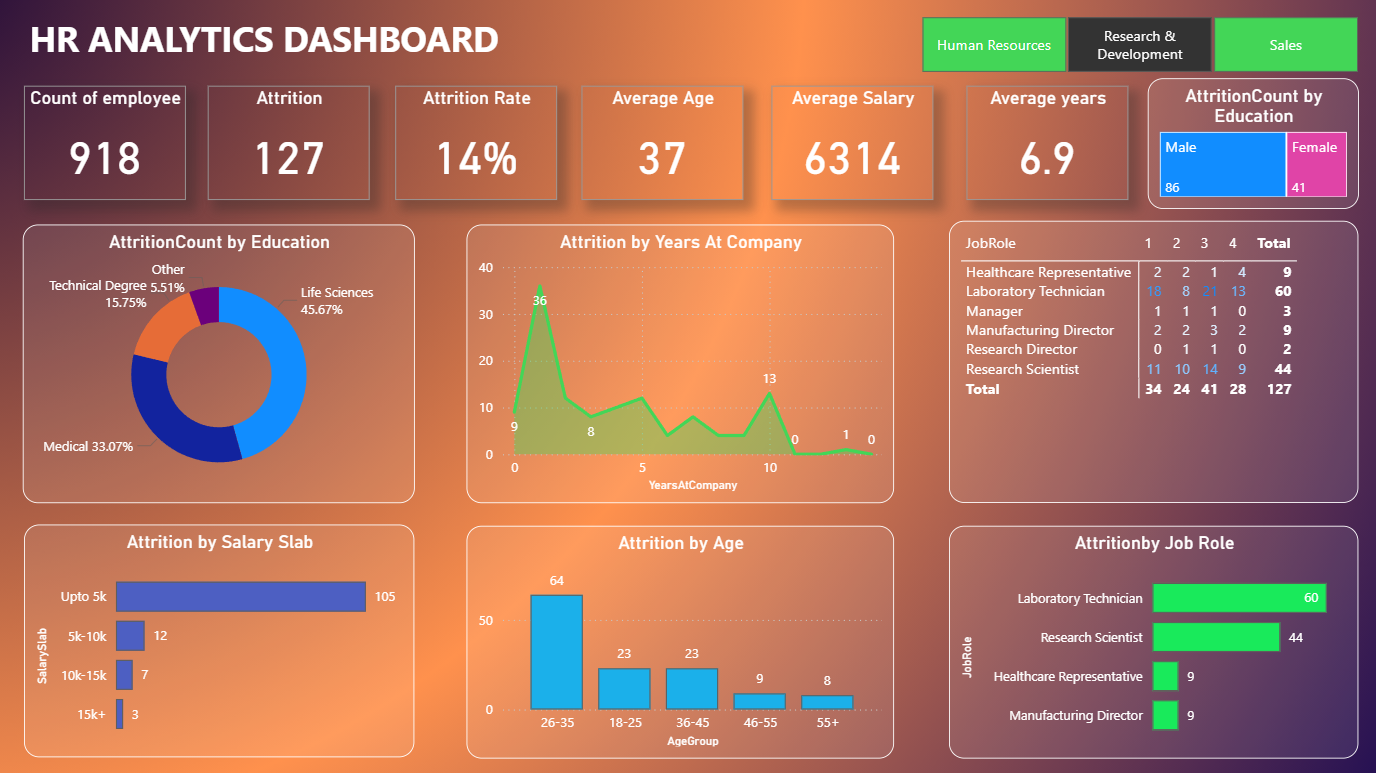

What the dashboard file says about the page in this screenshot:
{"tool":"powerbi","page":{"name":"Page 1","canvas":[1280,720],"ordinal":0},"visuals":[{"type":"card","title":"Count of employee","fields":{"Values":["CountNonNull(HR_Analytics.EmpID)"]},"box":[23.3,82.3,149.6,105.7],"z":0},{"type":"card","title":"Attrition","fields":{"Values":["Sum(HR_Analytics.AttritionCount)"]},"box":[193.5,82.3,149.6,105.7],"z":1000},{"type":"card","title":"Average Salary","fields":{"Values":["Avg(HR_Analytics.MonthlyIncome)"]},"box":[713.6,82.3,149.6,105.7],"z":2000},{"type":"card","title":"Attrition Rate","fields":{"Values":["HR_Analytics.AttritionRate"]},"box":[366.4,82.3,149.6,105.7],"z":3000},{"type":"card","title":"Average Age","fields":{"Values":["Avg(HR_Analytics.Age)"]},"box":[537.9,82.3,149.6,105.7],"z":4000},{"type":"card","title":"Average years","fields":{"Values":["Avg(HR_Analytics.YearsAtCompany)"]},"box":[894.7,82.3,149.6,105.7],"z":5000},{"type":"donutChart","title":"AttritionCount by Education","fields":{"Category":["HR_Analytics.EducationField"],"Y":["Sum(HR_Analytics.AttritionCount)"]},"box":[22,209.9,362.3,258],"z":6000},{"type":"columnChart","title":"Attrition by Age","fields":{"Category":["HR_Analytics.AgeGroup"],"Y":["Sum(HR_Analytics.AttritionCount)"]},"box":[432.2,488.5,395.2,215.4],"z":7000},{"type":"pivotTable","fields":{"Rows":["HR_Analytics.JobRole"],"Columns":["HR_Analytics.JobSatisfaction"],"Values":["Sum(HR_Analytics.AttritionCount)"]},"box":[878.2,207.2,378.7,260.7],"z":8000},{"type":"barChart","title":"Attrition by Salary Slab","fields":{"Category":["HR_Analytics.SalarySlab"],"Y":["Sum(HR_Analytics.AttritionCount)"]},"box":[23.3,487.1,360.9,215.4],"z":9000},{"type":"barChart","title":"Attritionby Job Role","fields":{"Y":["Sum(HR_Analytics.AttritionCount)"],"Category":["HR_Analytics.JobRole"]},"box":[878.2,488.5,378.7,215.4],"z":10000},{"type":"areaChart","title":"Attrition by Years At Company","fields":{"Category":["HR_Analytics.YearsAtCompany"],"Y":["Sum(HR_Analytics.AttritionCount)"]},"box":[432.2,209.9,395.2,258],"z":11000},{"type":"treemap","title":"AttritionCount by Education","fields":{"Values":["Sum(HR_Analytics.AttritionCount)"],"Group":["HR_Analytics.Gender"]},"box":[1062.1,75.5,194.9,120.8],"z":12000},{"type":"slicer","fields":{"Values":["HR_Analytics.Department"]},"box":[827.4,11,452.8,64.5],"z":13000},{"type":"textbox","box":[23.3,11,525.6,52.1],"z":14000}]}

Visuals, with their boxes in screenshot pixels (x1, y1, x2, y2), scaled from the page's 1280x720 canvas onto the 1376x773 screenshot:
"Count of employee" card: {"left": 25, "top": 88, "right": 186, "bottom": 202}
"Attrition" card: {"left": 208, "top": 88, "right": 369, "bottom": 202}
"Average Salary" card: {"left": 767, "top": 88, "right": 928, "bottom": 202}
"Attrition Rate" card: {"left": 394, "top": 88, "right": 555, "bottom": 202}
"Average Age" card: {"left": 578, "top": 88, "right": 739, "bottom": 202}
"Average years" card: {"left": 962, "top": 88, "right": 1123, "bottom": 202}
"AttritionCount by Education" donutChart: {"left": 24, "top": 225, "right": 413, "bottom": 502}
"Attrition by Age" columnChart: {"left": 465, "top": 524, "right": 889, "bottom": 756}
pivotTable - HR_Analytics.JobRole x HR_Analytics.JobSatisfaction: {"left": 944, "top": 222, "right": 1351, "bottom": 502}
"Attrition by Salary Slab" barChart: {"left": 25, "top": 523, "right": 413, "bottom": 754}
"Attritionby Job Role" barChart: {"left": 944, "top": 524, "right": 1351, "bottom": 756}
"Attrition by Years At Company" areaChart: {"left": 465, "top": 225, "right": 889, "bottom": 502}
"AttritionCount by Education" treemap: {"left": 1142, "top": 81, "right": 1351, "bottom": 211}
slicer - HR_Analytics.Department: {"left": 889, "top": 12, "right": 1375, "bottom": 81}
textbox: {"left": 25, "top": 12, "right": 590, "bottom": 68}
